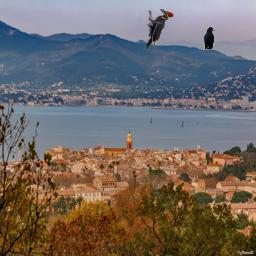Crow: (204, 27, 215, 49)
Woodpecker: (146, 9, 174, 49)
